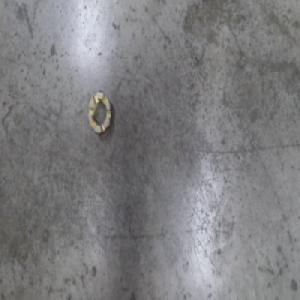Nut: (86, 88, 114, 137)
